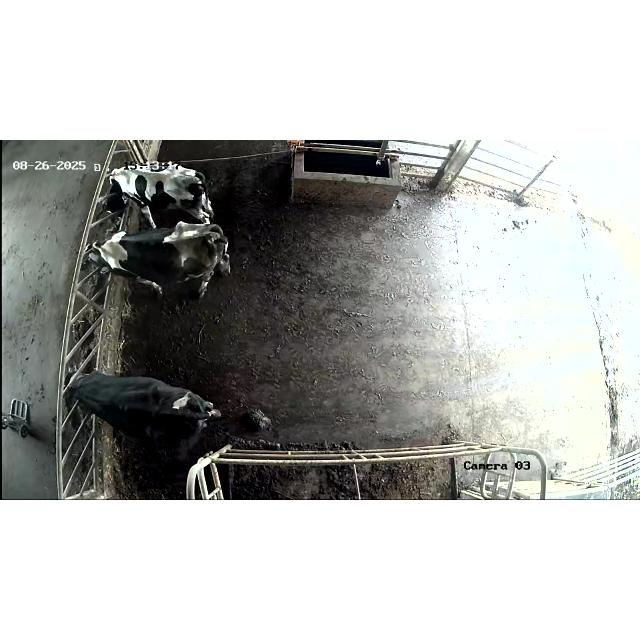eat: (60, 228, 146, 290), (78, 158, 154, 222), (41, 361, 119, 413)
